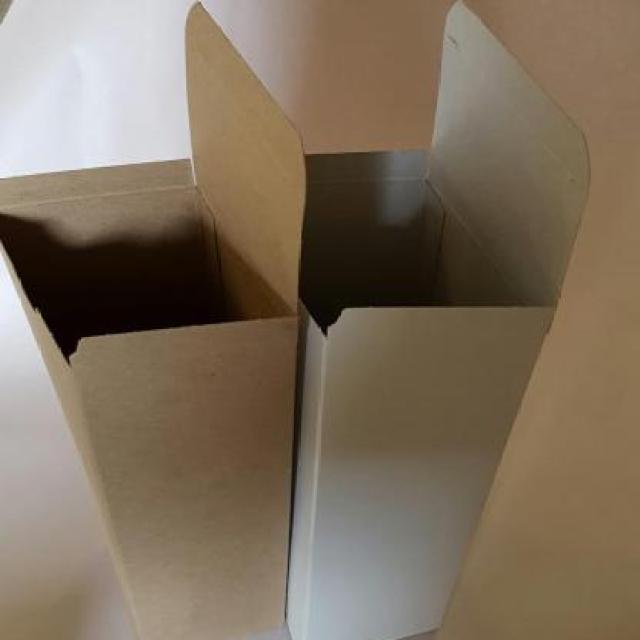box: (298, 0, 596, 640), (0, 3, 294, 640)
